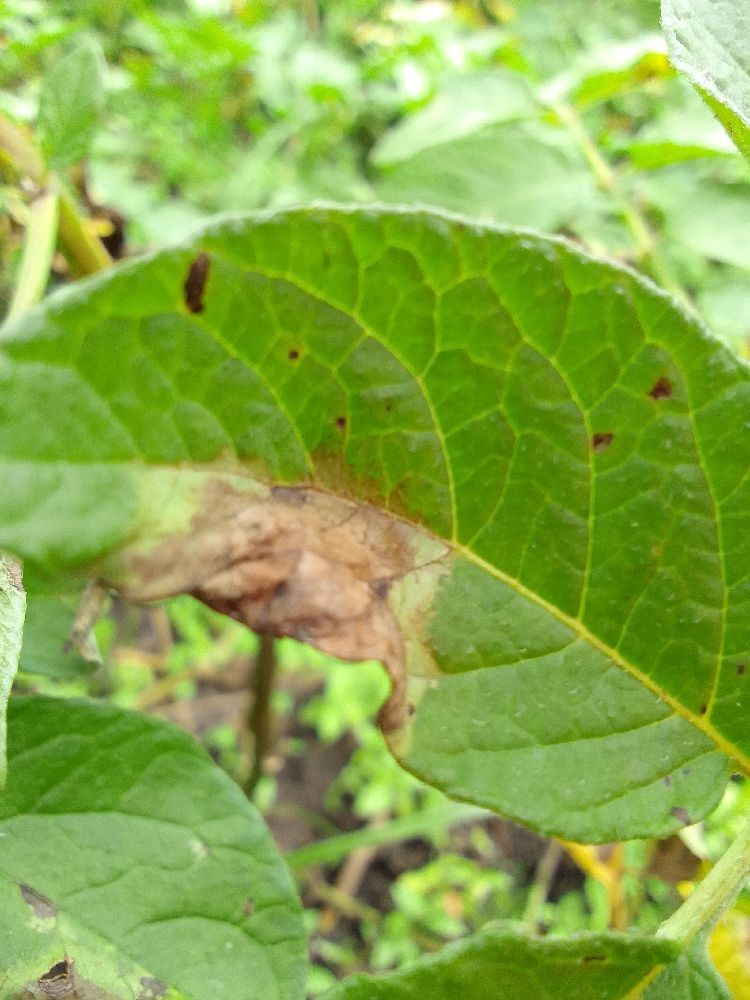late_blight: (429, 796, 647, 951), (282, 819, 455, 996), (641, 828, 707, 891)
